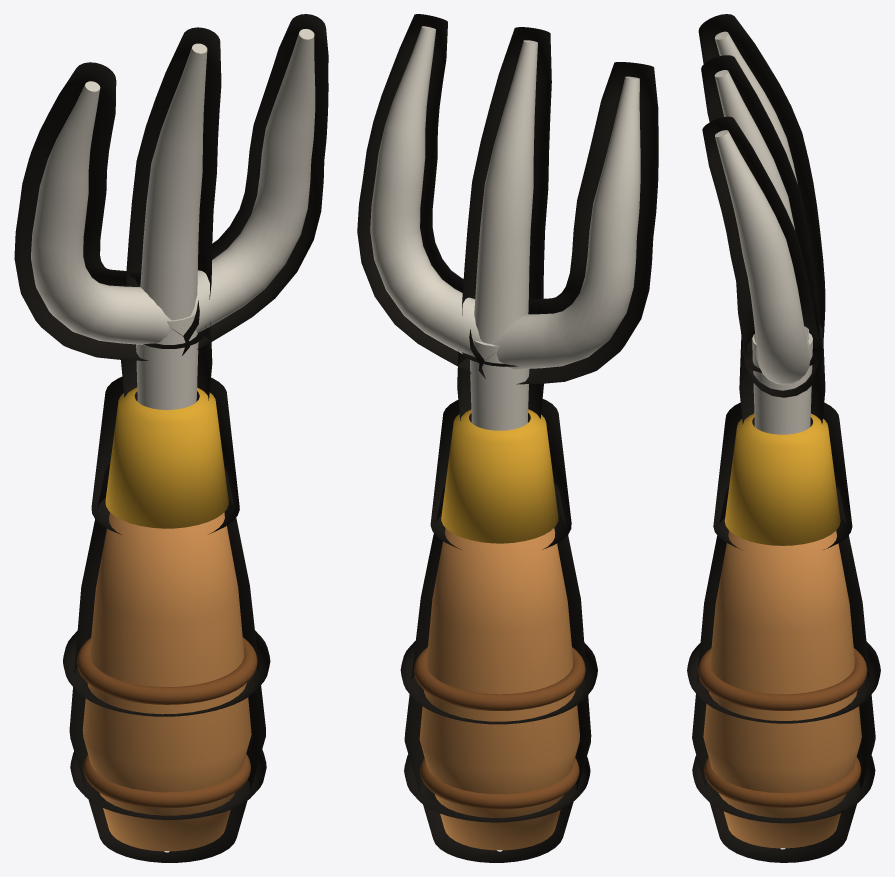
File: handfork.glb
The picture shows the model from 3 angles, left to right: view 1: azimuth 30°, elevation 25°; view 2: azimuth 150°, elevation 25°; view 3: azimuth 270°, elevation 25°; orthographic projection. The views are drawn at different scales.
Visible parts, largest first — view 1: HandFork, HandFork_outline; view 2: HandFork, HandFork_outline; view 3: HandFork, HandFork_outline.
Boxes of the visible parts, box(x1,y1,x2,y2) form: HandFork: box(31, 29, 315, 851); HandFork_outline: box(14, 14, 328, 862); HandFork: box(370, 26, 640, 850); HandFork_outline: box(357, 14, 658, 862); HandFork: box(698, 31, 867, 848); HandFork_outline: box(687, 14, 880, 862).
Bounding box in the file's own units: 0.5281 × 1.43 × 0.318.
